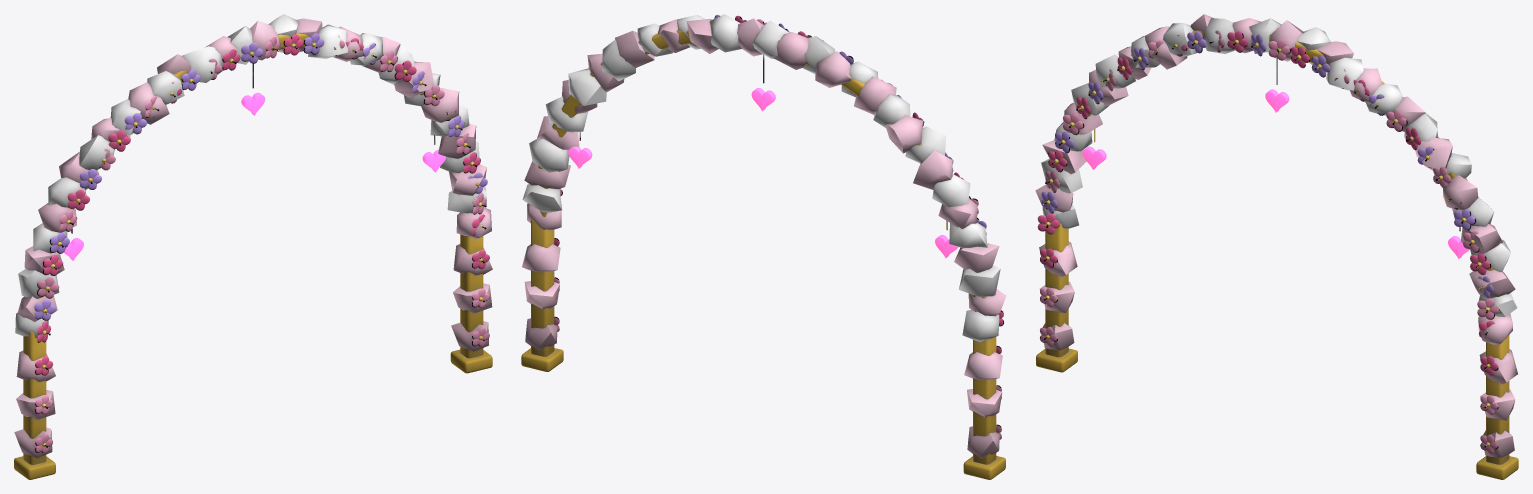
The model's file is hs_flower_arch.glb.
3 renders of one model, left to right at view 1: azimuth 30°, elevation 25°; view 2: azimuth 150°, elevation 25°; view 3: azimuth 330°, elevation 25°, orthographic.
Parts seen in each view (by area): view 1: hs_flower_arch; view 2: hs_flower_arch; view 3: hs_flower_arch.
Boxes of the visible parts, x1,y1,x2,y2 form: hs_flower_arch: [14, 14, 492, 479]; hs_flower_arch: [521, 14, 1006, 479]; hs_flower_arch: [1035, 14, 1518, 479].
Bounding box in the file's own units: 10.14 × 8.12 × 0.975.
Materials: 8 (8 with a texture image).
